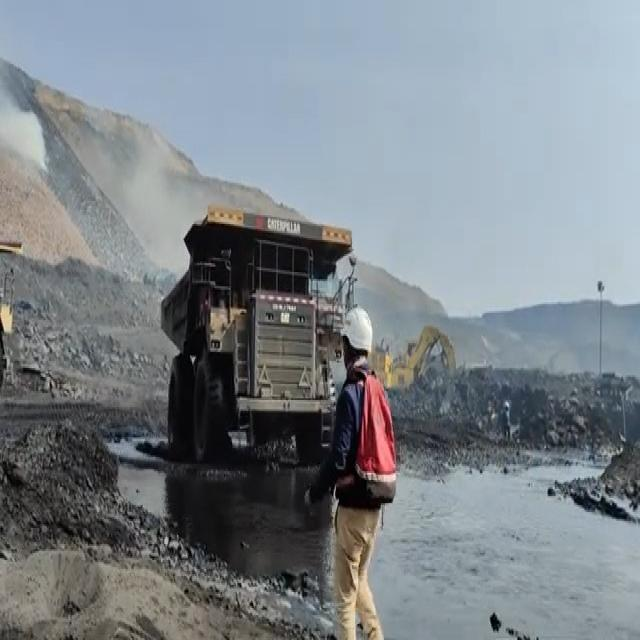dump_truck: (148, 208, 345, 507)
excavator: (380, 328, 465, 392)
